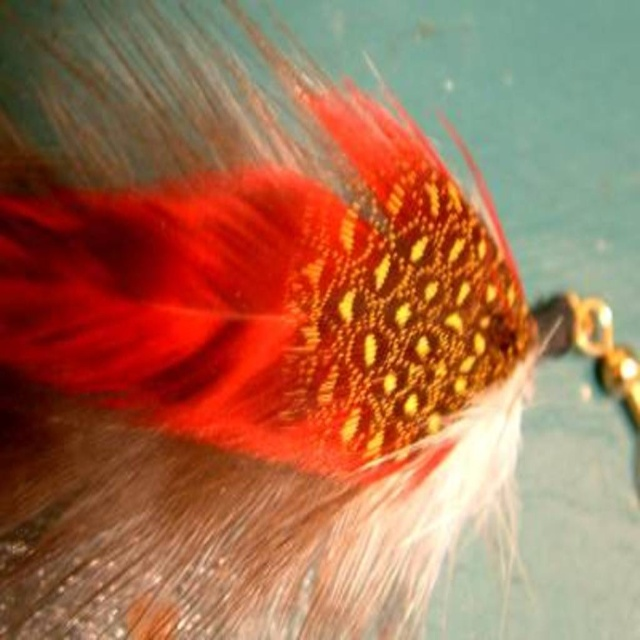Fish: (0, 0, 563, 638)
